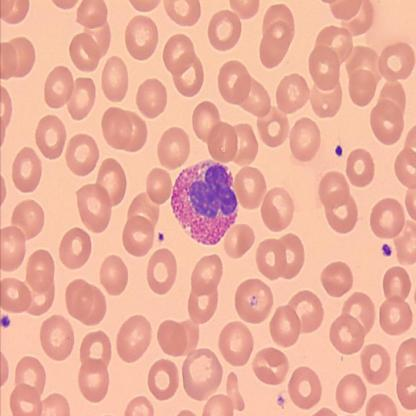Eosinophil: (168, 159, 238, 245)
